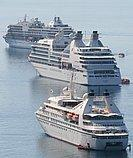Ship: (34, 85, 133, 154), (24, 29, 127, 90)
